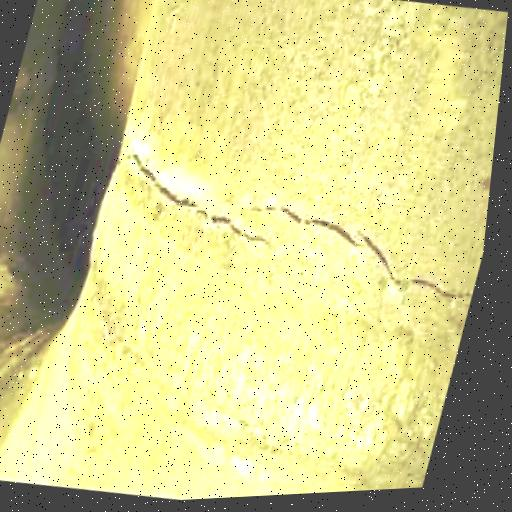crack: (87, 122, 497, 335)
